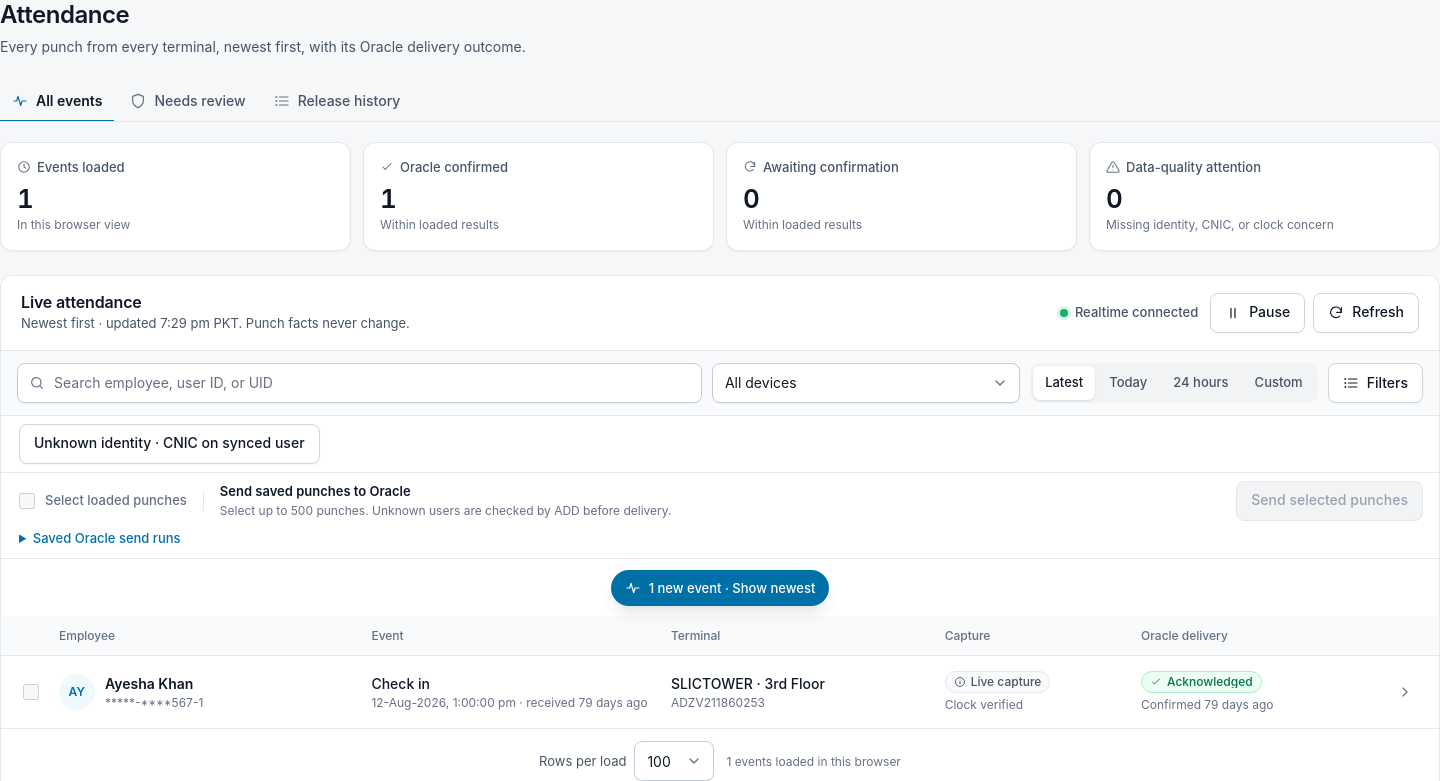
it: Live attendance workspace › updates delivery state in place and queues unseen events when the reader is away from the top
Check: the element named "Status: ACKNOWLEDGED" is shown, box [1141,671,1262,693]
Check: the element "Bilal Ahmed" is not shown
Step 1. Click the button "1 new event · Show newest" → coordinates (720, 588), box [611,570,829,606]
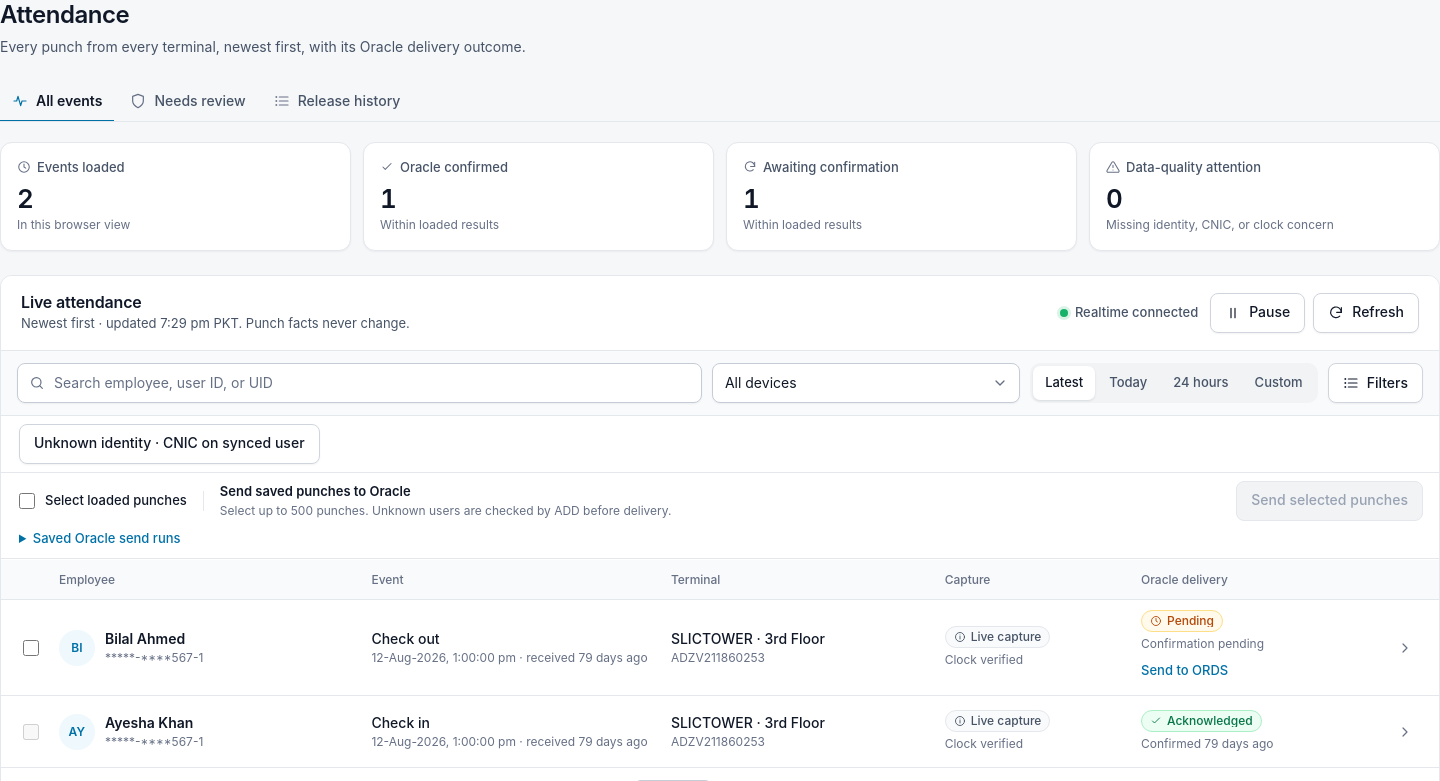
Check: the element named "Bilal Ahmed, Check out" is shown, box [1,600,1439,695]
Check: the number of elements named "Bilal Ahmed, Check out, 12-Aug-2026, 1:00:00 pm" is 2, box [1,600,1439,695]; [1,695,1439,767]
